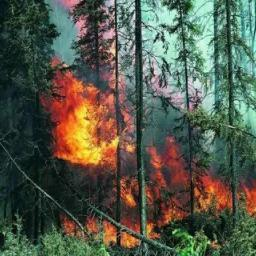Medium fire: (47, 58, 256, 236)
